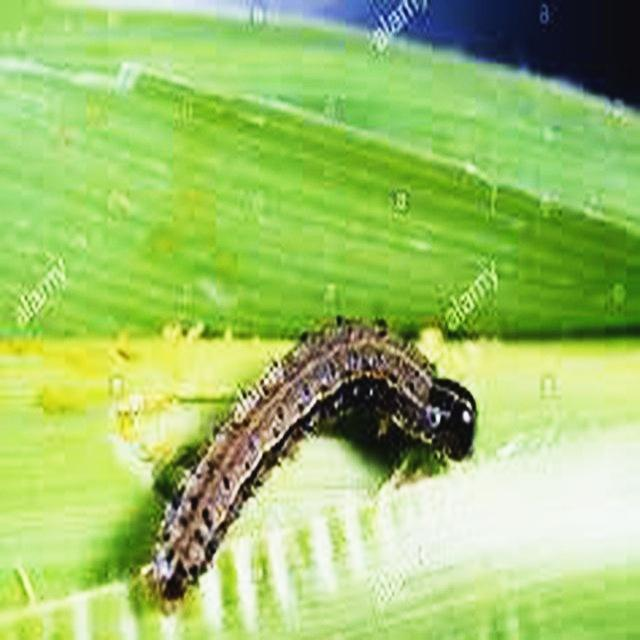gusano_cogollero: (138, 307, 482, 604)
